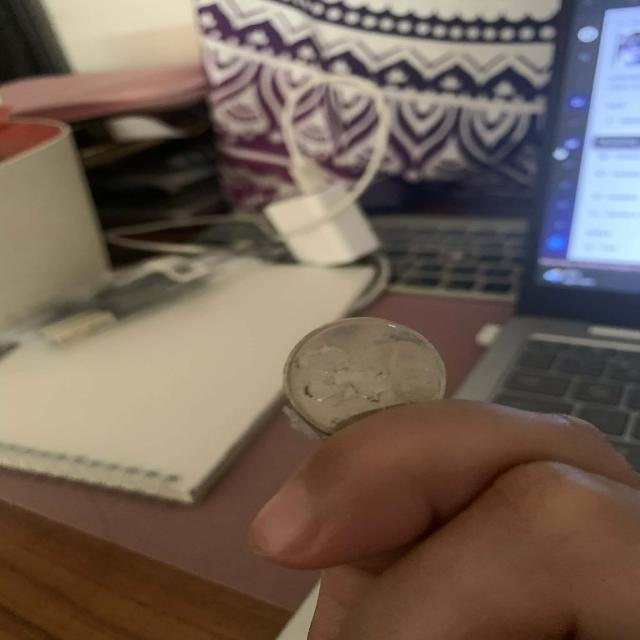25 cents: (275, 310, 457, 439)
